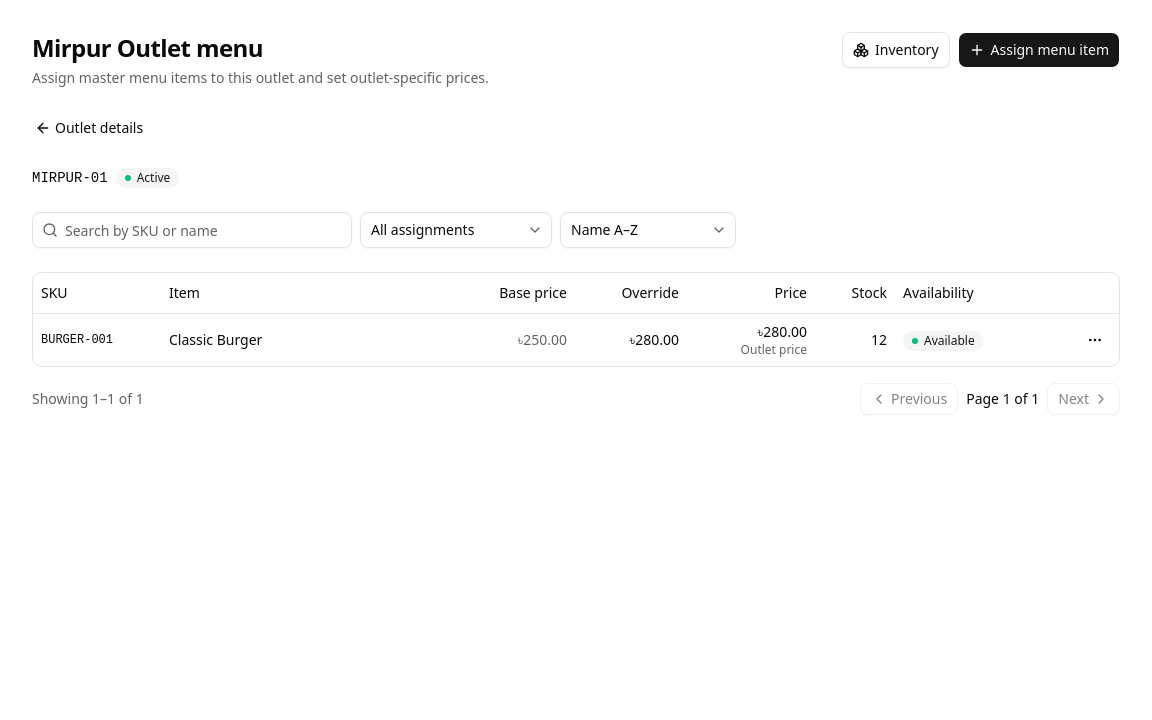
Price overrides and assignment status › restores master pricing by sending null
Click the button named "Actions for Classic Burger" at (1095, 340), box [1079, 324, 1111, 356]
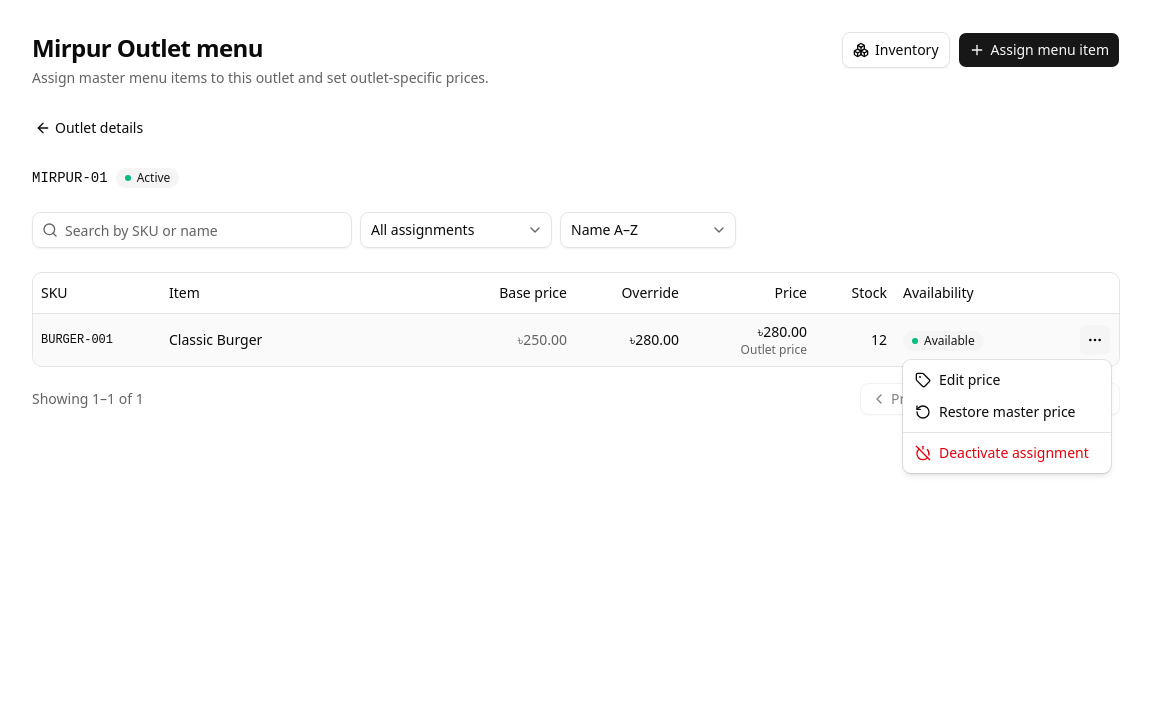
Click the menu item "Restore master price" at (995, 412), box [915, 402, 1076, 421]
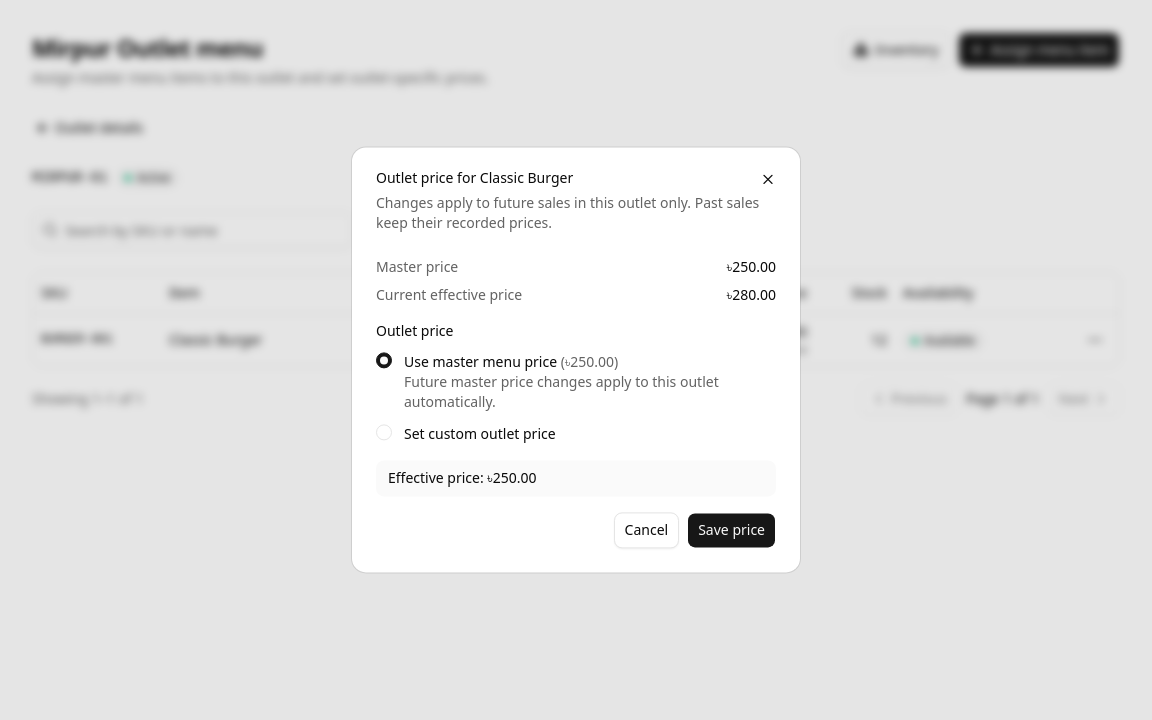
Result: the radio button named "Use master menu price" next to "Use master menu price" is checked at [376, 353, 392, 369]
Result: the text "Effective price: ৳250.00" is shown at [376, 461, 776, 497]
Result: the text "Future master price changes apply" is shown at [404, 373, 719, 412]
Click the button "Save price" at (732, 531), box [687, 513, 776, 549]
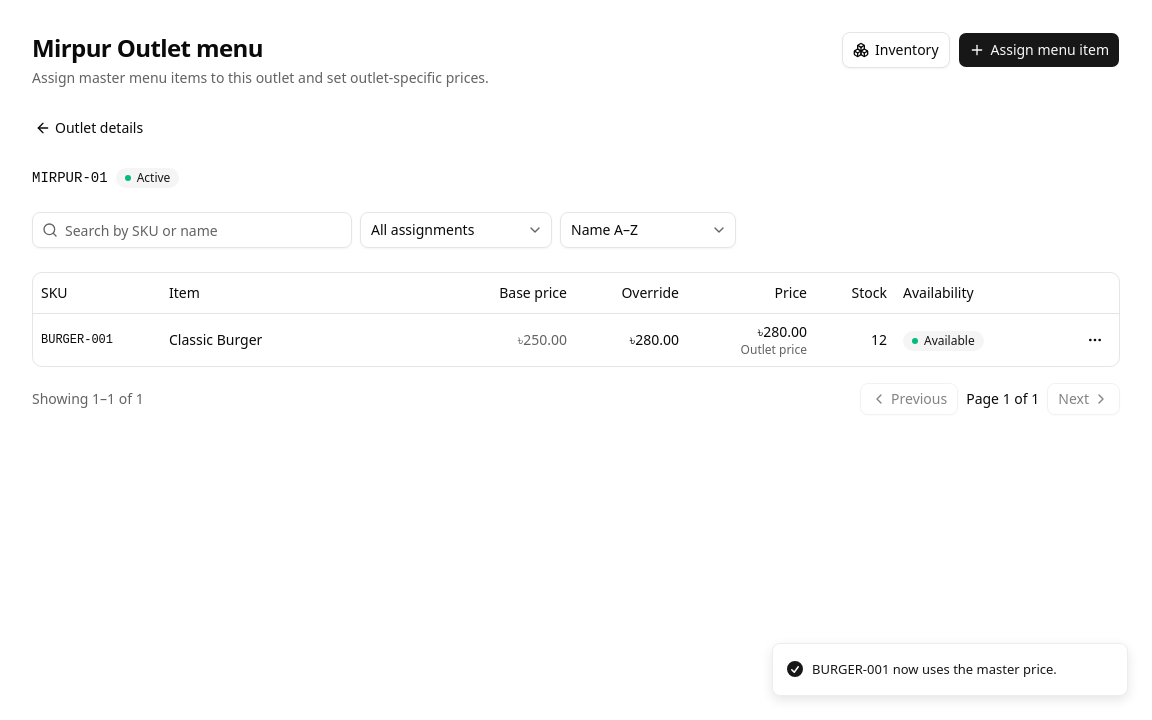
Result: the text "BURGER-001 now uses the master price." is shown at [812, 660, 1057, 679]
